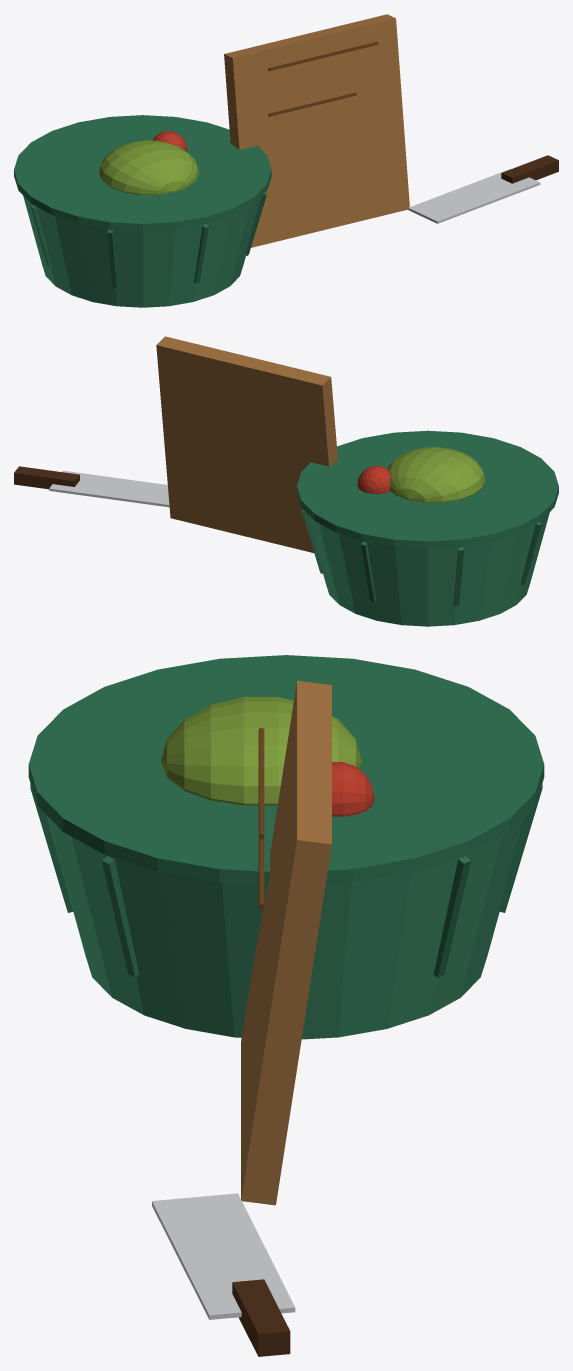
File: RoRaThit.glb
3 views of the same model, one above another, from view 1: azimuth 30°, elevation 25°; view 2: azimuth 150°, elevation 25°; view 3: azimuth 270°, elevation 25° (orthographic). The views are drawn at different scales.
Visible parts, largest first — view 1: RoRaThit_4, RoRaThit_1, RoRaThit, RoRaThit_2, RoRaThit_6, RoRaThit_7, RoRaThit_5; view 2: RoRaThit_4, RoRaThit_1, RoRaThit, RoRaThit_2, RoRaThit_6, RoRaThit_7, RoRaThit_3; view 3: RoRaThit_1, RoRaThit, RoRaThit_4, RoRaThit_2, RoRaThit_6, RoRaThit_7, RoRaThit_3, RoRaThit_5.
Boxes of the visible parts, box(x1,y1,x2,y2) form: RoRaThit_4: box(224, 14, 409, 247); RoRaThit_1: box(14, 115, 271, 287); RoRaThit: box(23, 195, 260, 307); RoRaThit_2: box(99, 140, 199, 194); RoRaThit_6: box(408, 169, 540, 223); RoRaThit_7: box(501, 155, 558, 183); RoRaThit_5: box(268, 41, 378, 116); RoRaThit_4: box(156, 336, 337, 552); RoRaThit_1: box(297, 430, 558, 606); RoRaThit: box(308, 513, 549, 626); RoRaThit_2: box(387, 447, 485, 502); RoRaThit_6: box(49, 470, 169, 507); RoRaThit_7: box(14, 466, 79, 489); RoRaThit_3: box(357, 466, 390, 493); RoRaThit_1: box(28, 655, 544, 977); RoRaThit: box(47, 816, 525, 1039); RoRaThit_4: box(241, 680, 331, 1205); RoRaThit_2: box(161, 697, 361, 805); RoRaThit_6: box(152, 1193, 295, 1319); RoRaThit_7: box(232, 1279, 290, 1356); RoRaThit_3: box(332, 762, 374, 816); RoRaThit_5: box(258, 728, 264, 908).
Size of the model in its own units: 0.9566 by 0.3224 by 0.41.
